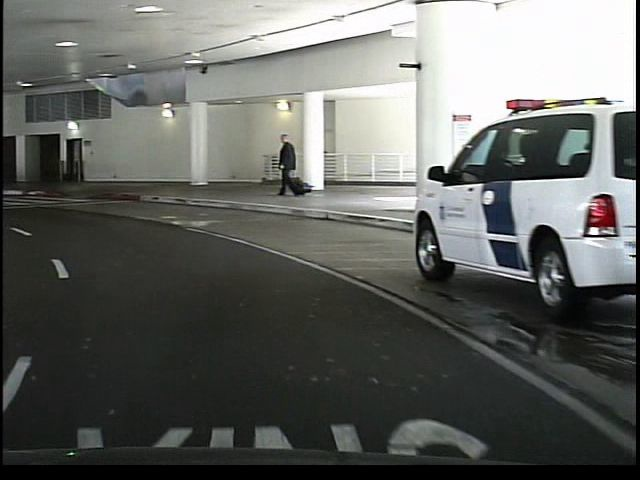person: (272, 129, 302, 202)
